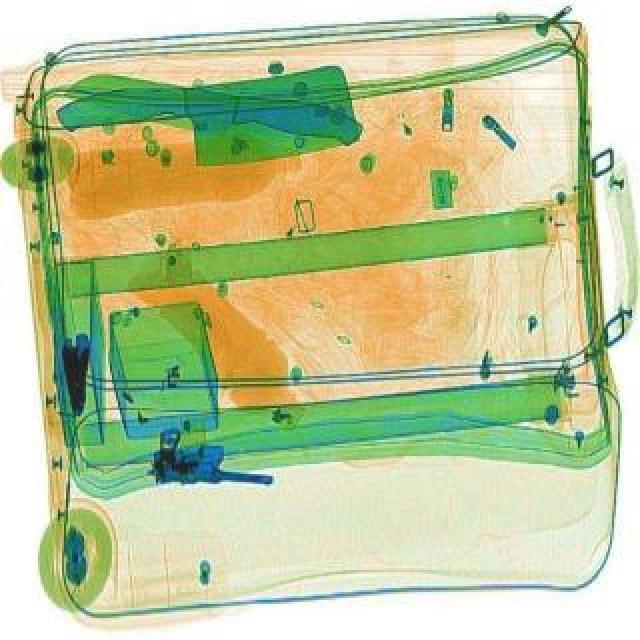gun: (146, 430, 274, 494), (56, 334, 100, 418)
knife: (56, 66, 360, 186), (58, 72, 366, 156)
